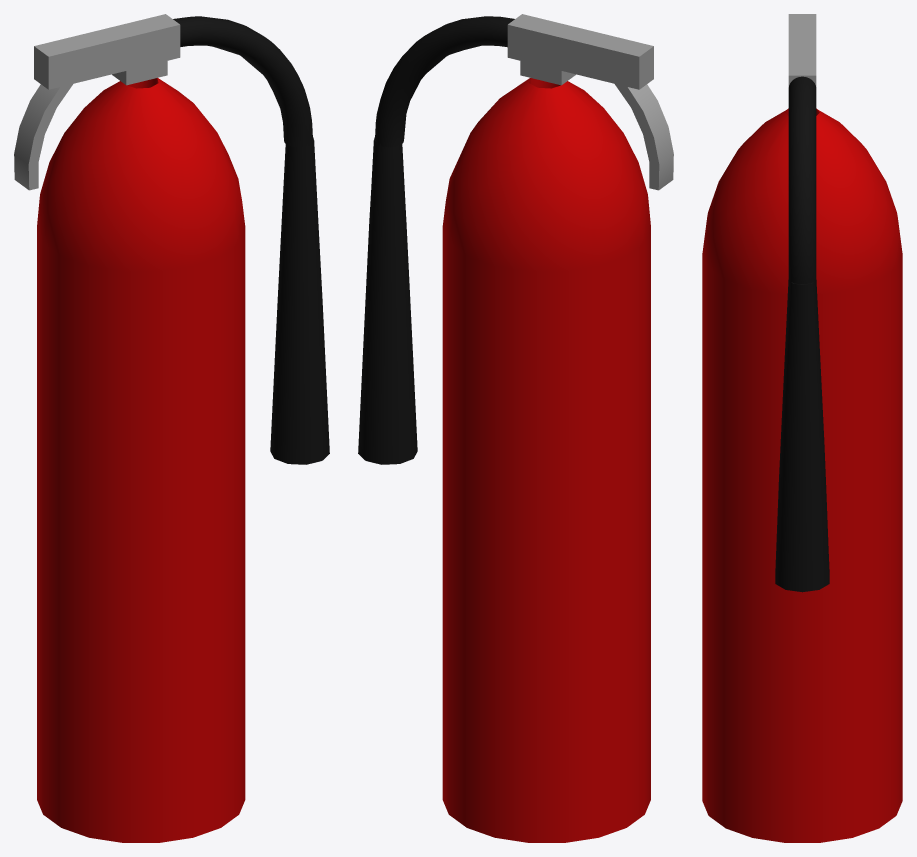
The model's file is binh chua chay.fbx.
3 views of the same model, side by side, from view 1: azimuth 30°, elevation 25°; view 2: azimuth 150°, elevation 25°; view 3: azimuth 270°, elevation 25° (orthographic). The views are drawn at different scales.
Visible parts, largest first — view 1: [2365661], [2365719], Extrusion (1), Sweep (1); view 2: [2365661], [2365719], Extrusion (1), Sweep (1); view 3: [2365661], [2365719], Sweep (1), Extrusion (1).
Boxes of the visible parts, left/top/right/bottom form: [2365661]: left=37, top=78, right=245, bottom=842; [2365719]: left=270, top=137, right=329, bottom=464; Extrusion (1): left=14, top=14, right=180, bottom=190; Sweep (1): left=173, top=16, right=312, bottom=147; [2365661]: left=442, top=78, right=650, bottom=842; [2365719]: left=358, top=137, right=417, bottom=464; Extrusion (1): left=507, top=14, right=673, bottom=190; Sweep (1): left=375, top=16, right=514, bottom=147; [2365661]: left=702, top=108, right=902, bottom=842; [2365719]: left=775, top=279, right=829, bottom=592; Sweep (1): left=788, top=76, right=816, bottom=284; Extrusion (1): left=788, top=14, right=816, bottom=86.
Size of the model in its own units: 0.3064 by 0.1818 by 0.7424.
